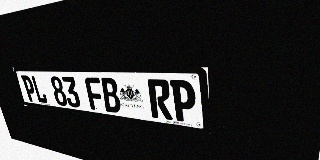3: (61, 76, 81, 108)
8: (49, 76, 68, 106)
B: (100, 78, 122, 113)
F: (84, 77, 105, 111)
L: (30, 75, 48, 104)
P: (170, 80, 197, 123), (21, 75, 38, 102)
R: (147, 79, 173, 120)
